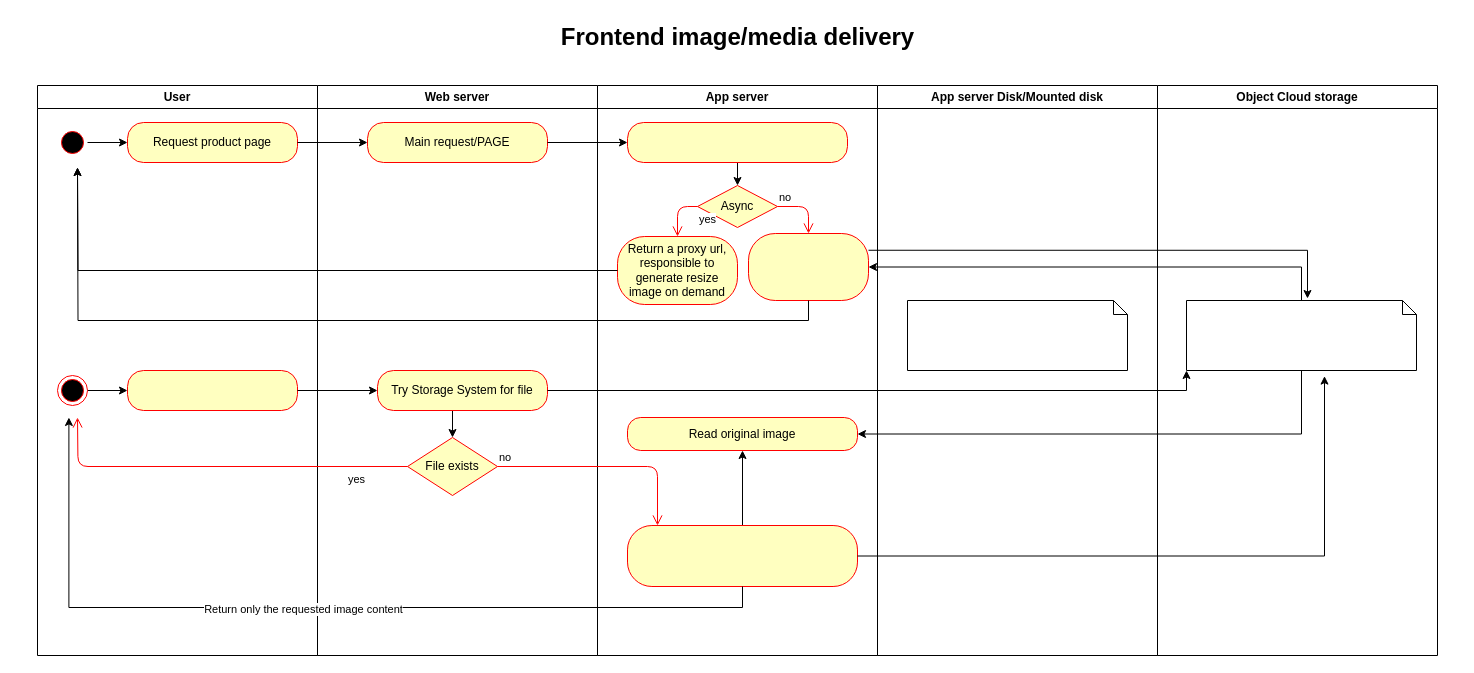
Image size: 1474x673. Some labels were removed from this diagram. Each missing label, with the centre of its shape:
Magento Media resize script Generate all resized images for store: point (742, 555)
Permanent directory media/catalog/product/{directory}: point (1301, 335)
Process images found on page: point (737, 142)
Request image through proxy: point (212, 390)
Resize image synchronously if not exist: point (808, 266)
Temporary files /tmp: point (1017, 335)
